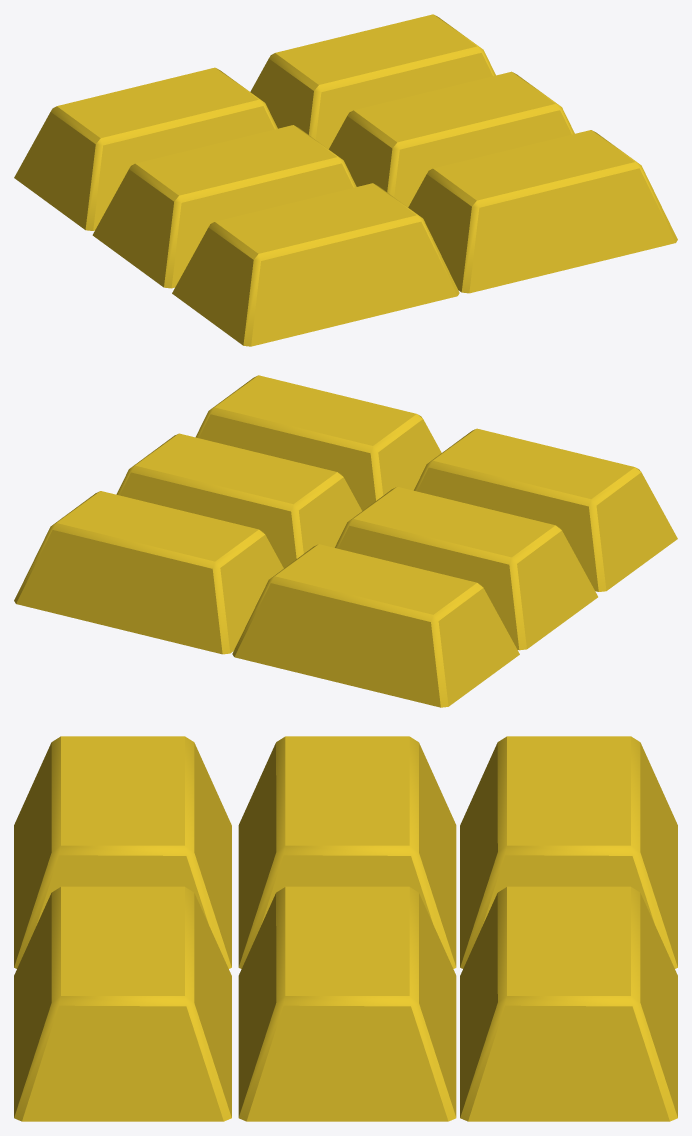
File: gold3.fbx
3 renders of one model, top to bottom at view 1: azimuth 30°, elevation 25°; view 2: azimuth 150°, elevation 25°; view 3: azimuth 270°, elevation 25°, orthographic. The views are drawn at different scales.
Visible parts, largest first — view 1: pCube10; view 2: pCube10; view 3: pCube10.
Boxes of the visible parts, box(x1,y1,x2,y2) form: pCube10: box(14, 14, 677, 346); pCube10: box(14, 375, 677, 707); pCube10: box(14, 736, 677, 1121).
Bounding box in the file's own units: 71.94 × 11.83 × 67.39.
